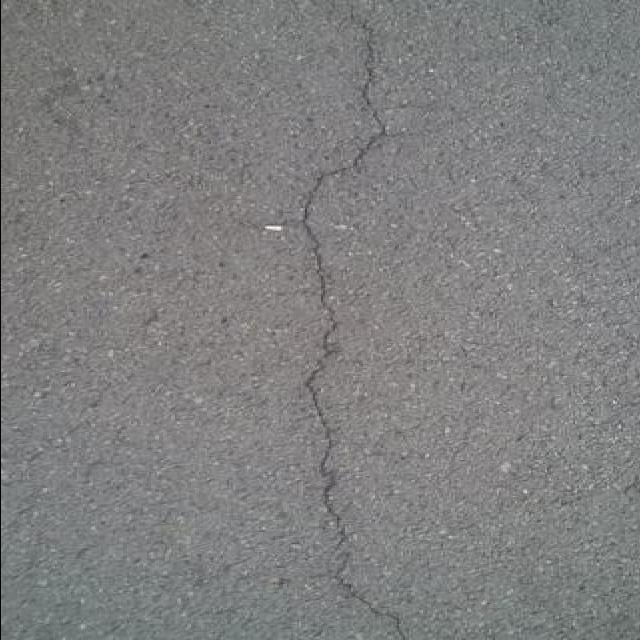crack: (296, 16, 411, 639)
